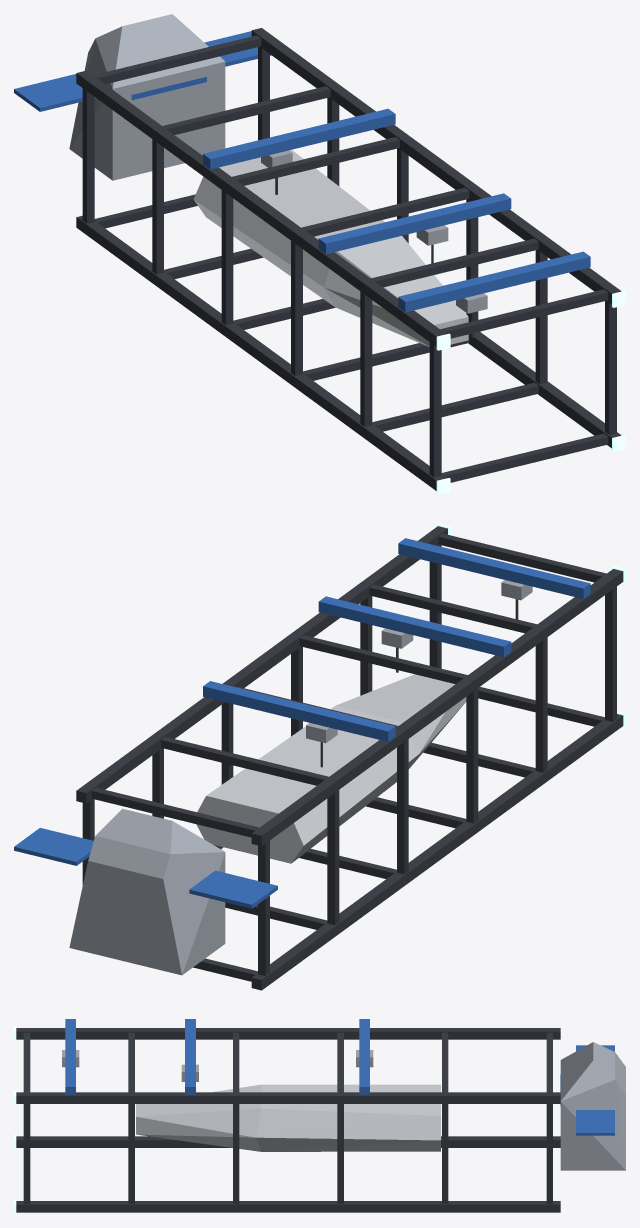
The model's file is Shipyard_L2.glb.
3 renders of one model, top to bottom at view 1: azimuth 30°, elevation 25°; view 2: azimuth 150°, elevation 25°; view 3: azimuth 270°, elevation 25°, orthographic. The views are drawn at different scales.
Parts seen in each view (by area): view 1: hull_in_progress, control_block, frame_beam_1, frame_beam_3, frame_beam_0, gantry_1, gantry_2, gantry_0, frame_beam_2, rib_top_3, rib_top_2, rib_top_1 (+23 smaller); view 2: control_block, hull_in_progress, frame_beam_1, frame_beam_3, frame_beam_0, gantry_1, gantry_2, gantry_0, rib_top_3, rib_top_4, rib_top_0, rib_top_5 (+20 smaller); view 3: hull_in_progress, control_block, frame_beam_2, frame_beam_0, frame_beam_1, frame_beam_3, radiator_R, gantry_0, gantry_1, gantry_2, rib_R_5, rib_R_2 (+10 smaller).
Boxes of the visible parts, left/top/right/bottom form: hull_in_progress: left=193, top=149, right=468, bottom=346; control_block: left=69, top=14, right=225, bottom=180; frame_beam_1: left=76, top=70, right=446, bottom=346; frame_beam_3: left=76, top=215, right=446, bottom=490; frame_beam_0: left=251, top=28, right=621, bottom=303; gantry_1: left=318, top=193, right=511, bottom=254; gantry_2: left=398, top=251, right=590, bottom=312; gantry_0: left=203, top=108, right=395, bottom=169; frame_beam_2: left=468, top=331, right=621, bottom=448; rib_top_3: left=289, top=188, right=469, bottom=238; rib_top_2: left=220, top=137, right=399, bottom=190; rib_top_1: left=151, top=86, right=330, bottom=135; control_block: left=69, top=808, right=225, bottom=975; hull_in_progress: left=196, top=674, right=466, bottom=863; frame_beam_1: left=251, top=569, right=623, bottom=846; frame_beam_3: left=251, top=714, right=623, bottom=990; frame_beam_0: left=76, top=526, right=447, bottom=803; gantry_1: left=318, top=596, right=511, bottom=657; gantry_2: left=398, top=538, right=590, bottom=598; gantry_0: left=203, top=681, right=395, bottom=741; rib_top_3: left=299, top=635, right=479, bottom=687; rib_top_4: left=369, top=584, right=548, bottom=637; rib_top_0: left=91, top=787, right=270, bottom=840; rib_top_5: left=438, top=533, right=617, bottom=586; hull_in_progress: left=136, top=1084, right=440, bottom=1151; control_block: left=560, top=1042, right=625, bottom=1170; frame_beam_2: left=16, top=1201, right=560, bottom=1212; frame_beam_0: left=16, top=1092, right=560, bottom=1103; frame_beam_1: left=16, top=1028, right=560, bottom=1039; frame_beam_3: left=16, top=1136, right=560, bottom=1147; radiator_R: left=576, top=1110, right=614, bottom=1135; gantry_0: left=359, top=1019, right=369, bottom=1094; gantry_1: left=185, top=1019, right=195, bottom=1094; gantry_2: left=65, top=1019, right=75, bottom=1094; rib_R_5: left=23, top=1092, right=30, bottom=1203; rib_R_2: left=337, top=1092, right=343, bottom=1203.
Size of the model in its own units: 218 by 150 by 646.
